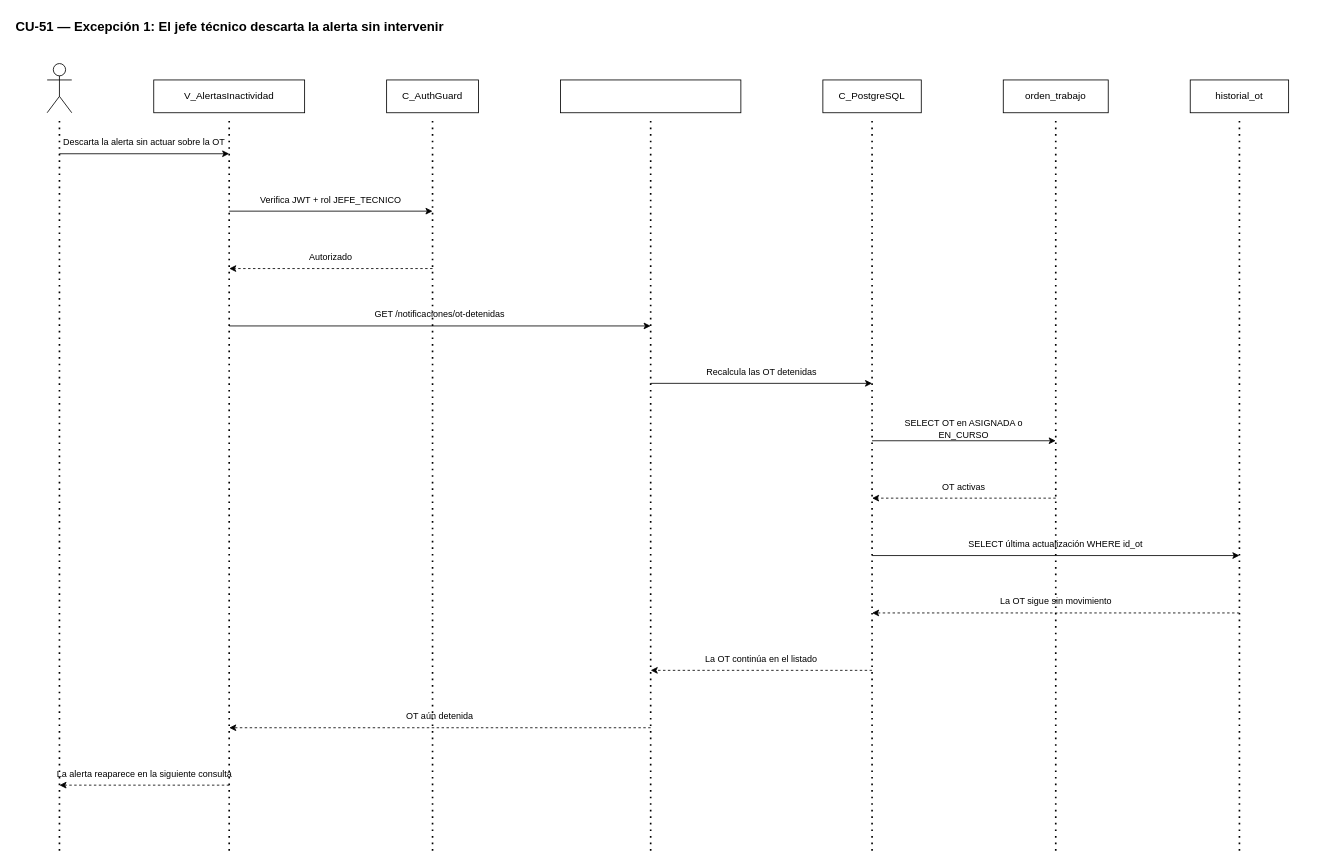
The diagram is 1335 pixels wide and 866 high, and some of its shapes have lost their labels. Each missing label, with the centre of its shape:
C_NotificacionesController: point (650, 96)
Jefe Técnico: point (59, 88)
